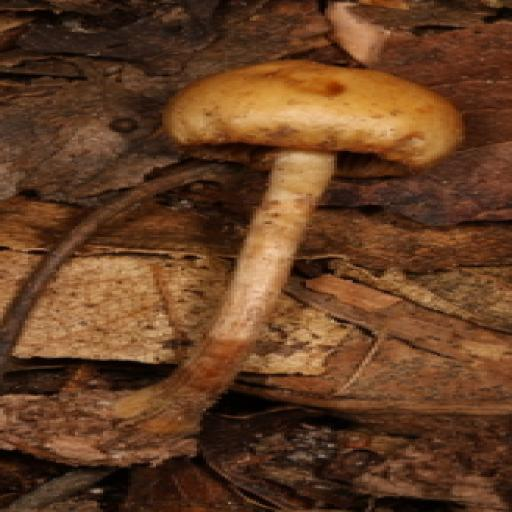mushroom: (123, 50, 466, 314)
